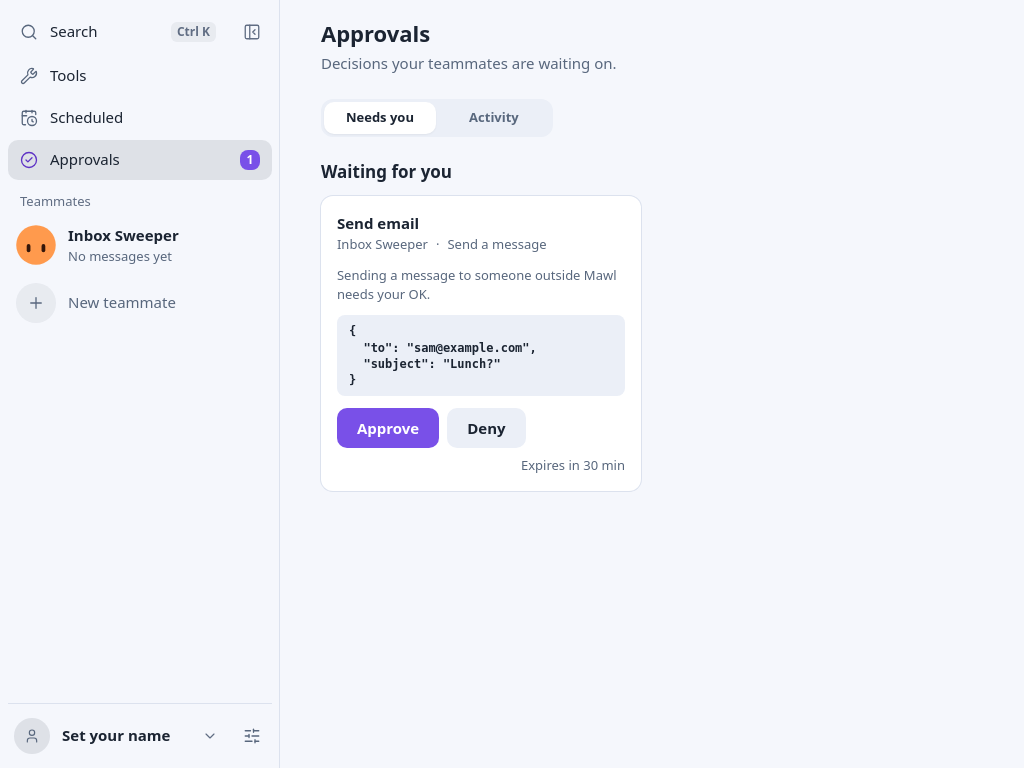
approvals inbox › denies with the right id
This screenshot has width=1024, height=768.
Click the button "Deny" at (486, 428), box [447,408,526,448]
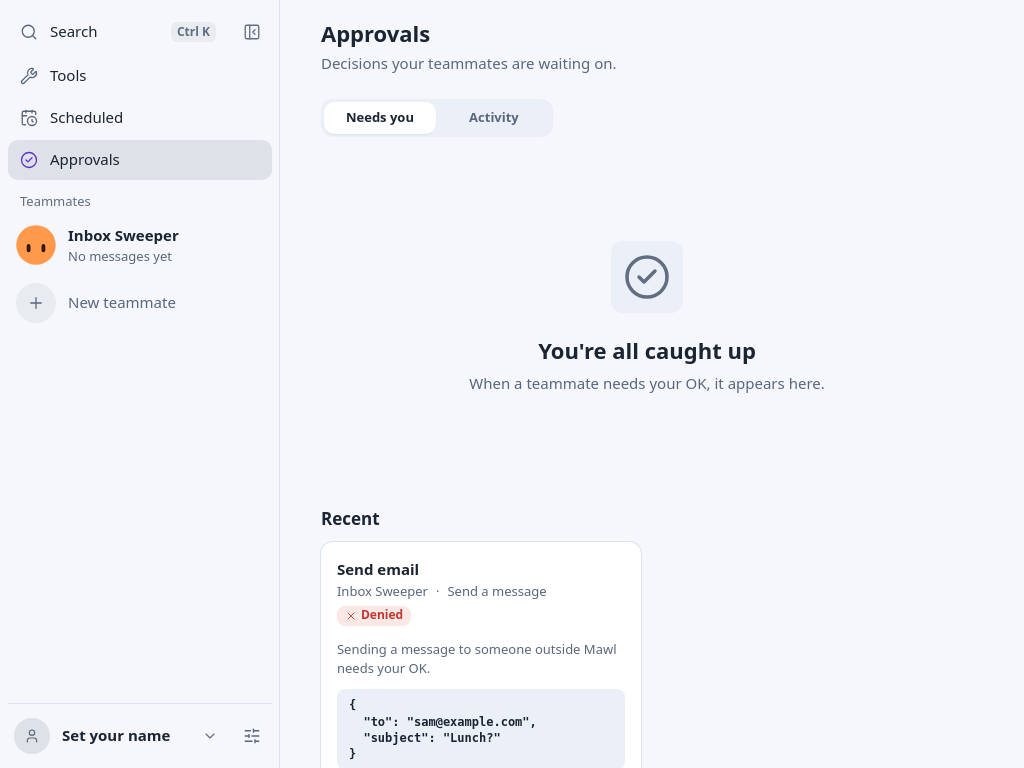
Result: the text "Denied" is shown at [337,606,411,626]
